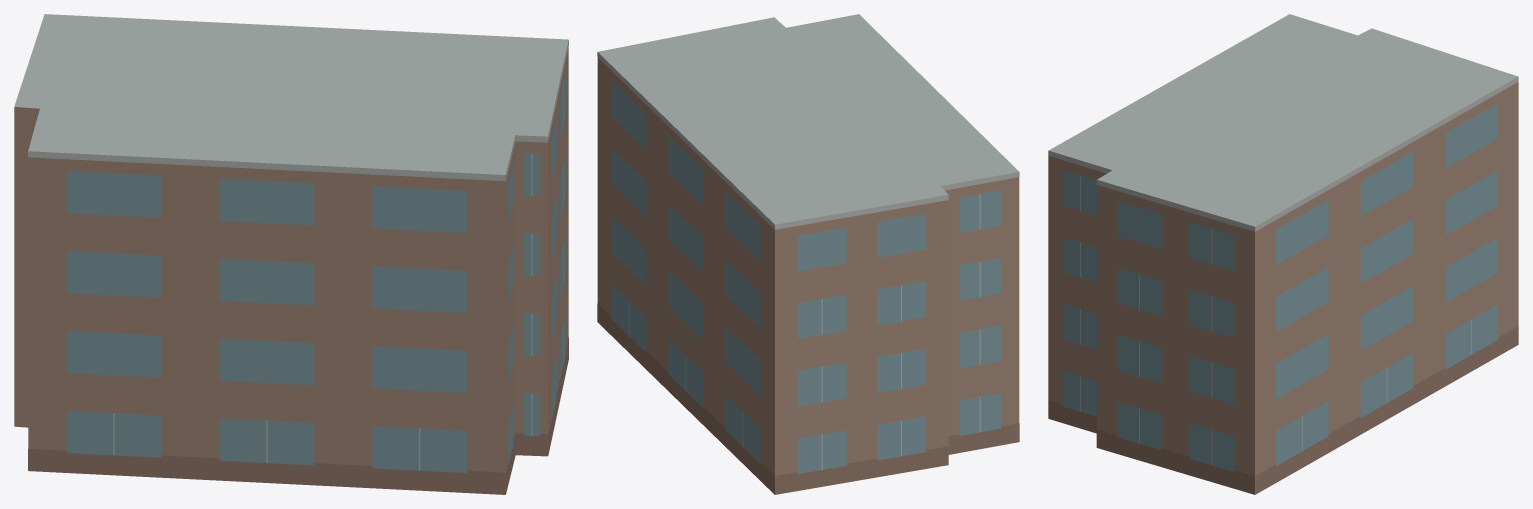
Rendered from survey-upis-32692627.glb.
3 renders of one model, left to right at view 1: azimuth 30°, elevation 25°; view 2: azimuth 150°, elevation 25°; view 3: azimuth 270°, elevation 25°, orthographic. The views are drawn at different scales.
Visible parts, largest first — view 1: survey-upis-32692627.tmp; view 2: survey-upis-32692627.tmp; view 3: survey-upis-32692627.tmp.
Boxes of the visible parts, x1,y1,x2,y2 form: survey-upis-32692627.tmp: (14,14,568,494); survey-upis-32692627.tmp: (597,14,1019,494); survey-upis-32692627.tmp: (1048,14,1518,494).
Bounding box in the file's own units: 21.79 × 12.8 × 20.35.
